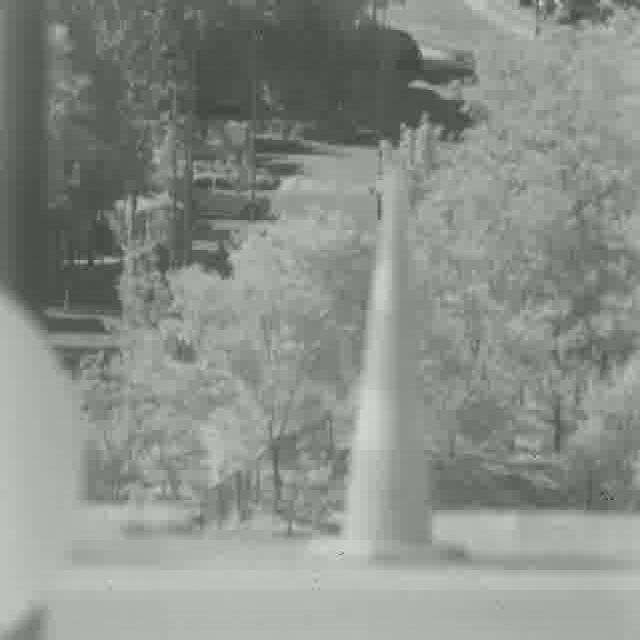Car: (392, 29, 423, 75)
